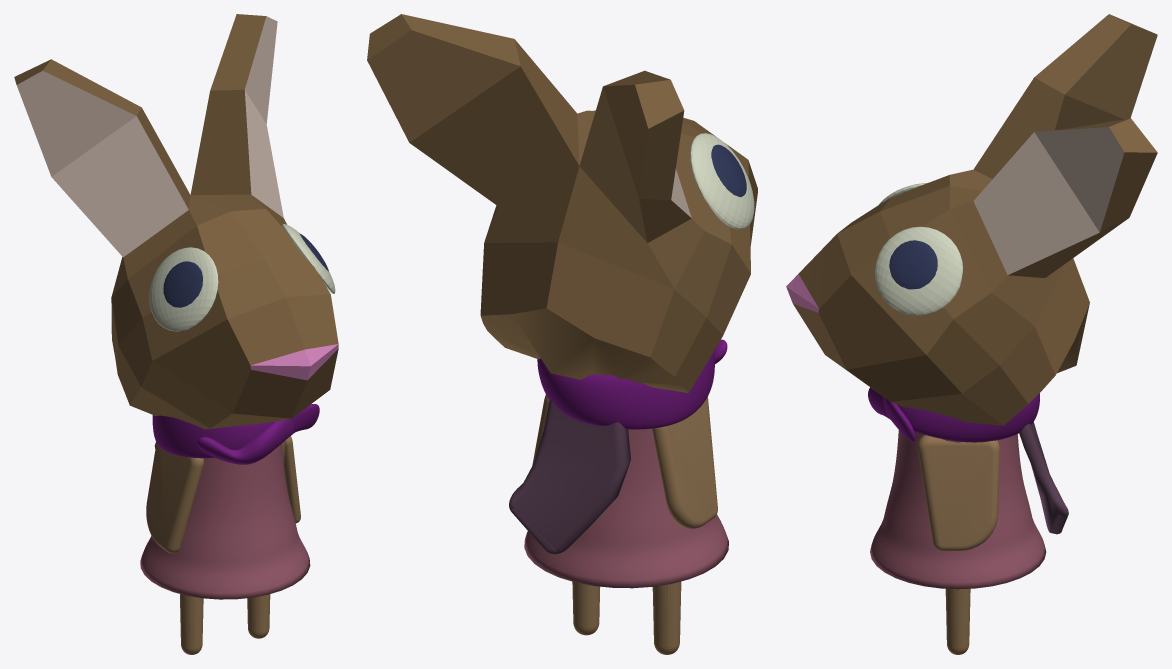
The model's file is bunny small remaster.fbx.
The picture shows the model from 3 angles, left to right: view 1: azimuth 30°, elevation 25°; view 2: azimuth 150°, elevation 25°; view 3: azimuth 270°, elevation 25°; orthographic projection. The views are drawn at different scales.
Parts seen in each view (by area): view 1: Plane.003, Cylinder.160, Cube.036, Cube.034, Sphere.020, Cylinder.161, Sphere.021; view 2: Plane.003, Cylinder.160, Cube.035, Cube.036, Cube.034, Cylinder.161, Sphere.020, Sphere.021; view 3: Plane.003, Cylinder.160, Cube.034, Sphere.020, Cube.036, Cube.035, Sphere.021, Cylinder.161.
Part boxes in pixels (x1,y1,x2,y2): Plane.003: (14,14,338,429); Cylinder.160: (140,443,310,599); Cube.036: (152,404,319,464); Cube.034: (146,436,300,553); Sphere.020: (149,224,335,331); Cylinder.161: (180,594,270,654); Sphere.021: (163,233,328,307); Plane.003: (367,14,757,392); Cylinder.160: (524,428,728,588); Cube.035: (509,400,630,554); Cube.036: (537,339,727,429); Cube.034: (532,395,717,528); Cylinder.161: (572,581,681,654); Sphere.020: (593,110,754,229); Sphere.021: (711,144,746,197); Plane.003: (786,14,1157,425); Cylinder.160: (870,430,1046,589); Cube.034: (917,435,999,550); Sphere.020: (875,183,962,315); Cube.036: (868,387,1039,442); Cube.035: (1019,422,1068,534); Sphere.021: (889,240,937,289); Cylinder.161: (945,588,970,654).
Bounding box in the file's own units: 82.84 × 166 × 98.7.
